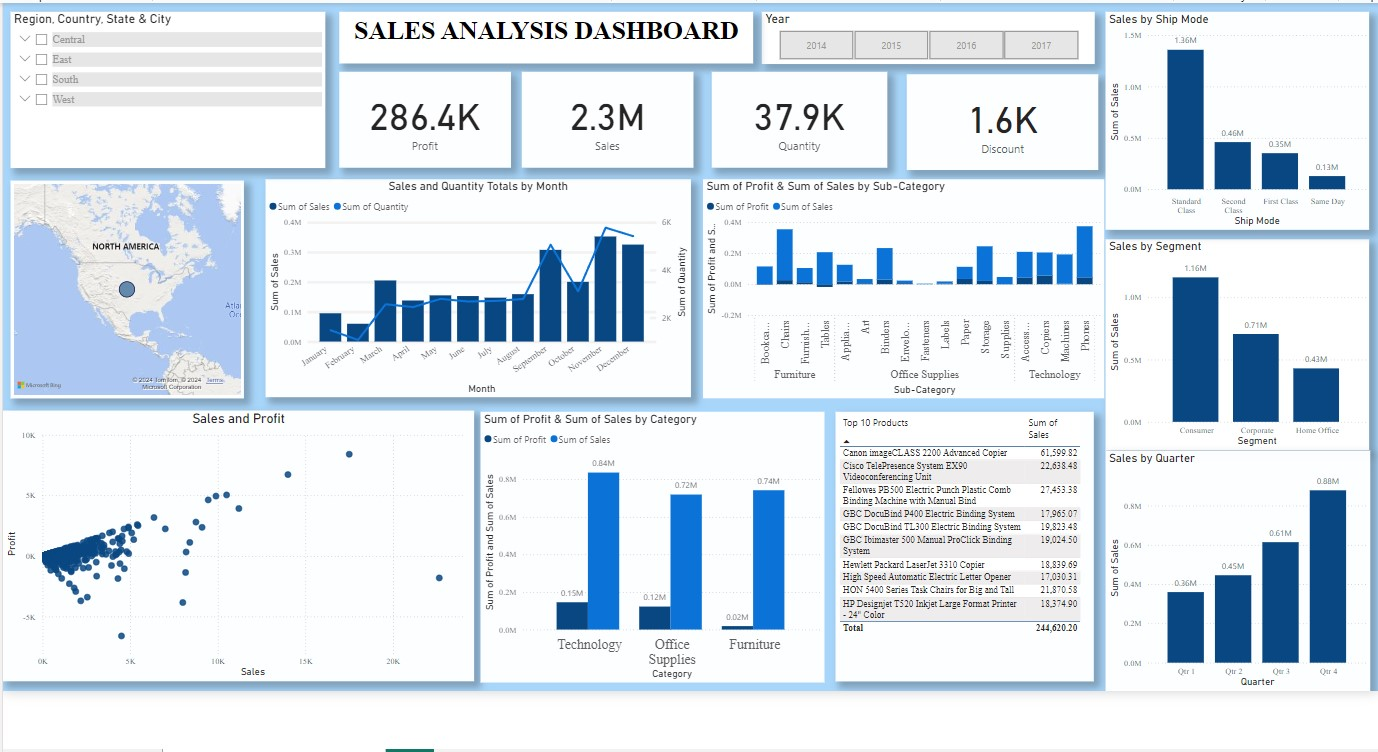

The page's visual inventory and layout, read from the dashboard file:
{"tool":"powerbi","page":{"name":"Sales Analysis Dashboard","canvas":[2000,1000],"ordinal":0},"visuals":[{"type":"scatterChart","fields":{"X":["sample_-_superstore xls - Orders.Sales"],"Y":["sample_-_superstore xls - Orders.Profit"]},"box":[0,591.7,685,393.3],"z":0},{"type":"columnChart","title":"Sales by Segment","fields":{"Category":["sample_-_superstore xls - Orders.Segment"],"Y":["Sum(sample_-_superstore xls - Orders.Sales)"]},"box":[1602.5,343.3,383.4,306.4],"z":1000},{"type":"map","title":"Sales by Country","fields":{"Category":["sample_-_superstore xls - Orders.Country"],"Size":["Sum(sample_-_superstore xls - Orders.Sales)"]},"box":[11,258.3,338.9,316.9],"z":2000},{"type":"slicer","title":"Year","fields":{"Values":["sample_-_superstore xls - Orders.Order Date.Variation.Date Hierarchy.Year"]},"box":[1103.6,12.4,483.8,75.7],"z":3000},{"type":"lineClusteredColumnComboChart","title":"Sales and Quantity Totals by Month","fields":{"Y":["Sum(sample_-_superstore xls - Orders.Sales)"],"Y2":["Sum(sample_-_superstore xls - Orders.Quantity)"],"Category":["sample_-_superstore xls - Orders.Order Date.Variation.Date Hierarchy.Month"]},"box":[381.7,256.7,618.3,316.7],"z":4000},{"type":"tableEx","fields":{"Values":["sample_-_superstore xls - Orders.Product Name","Sum(sample_-_superstore xls - Orders.Sales)"]},"box":[1210.8,593.5,375.5,392],"z":5000},{"type":"textbox","box":[488.3,13.3,601.7,75],"z":6000},{"type":"card","fields":{"Values":["Sum(sample_-_superstore xls - Orders.Profit)"]},"box":[488.8,100.1,249.3,139.4],"z":7000},{"type":"card","fields":{"Values":["Sum(sample_-_superstore xls - Orders.Sales)"]},"box":[753.8,100.1,249.3,139.4],"z":8000},{"type":"card","fields":{"Values":["Sum(sample_-_superstore xls - Orders.Discount)"]},"box":[1313.3,104,278.8,139.4],"z":9000},{"type":"card","fields":{"Values":["Sum(sample_-_superstore xls - Orders.Quantity)"]},"box":[1030.6,100.1,255.2,139.4],"z":10000},{"type":"columnChart","title":"Sales by Ship Mode","fields":{"Category":["sample_-_superstore xls - Orders.Ship Mode"],"Y":["Sum(sample_-_superstore xls - Orders.Sales)"]},"box":[1602.5,12.7,383.4,317],"z":11000},{"type":"columnChart","title":"Sales by Quarter","fields":{"Y":["Sum(sample_-_superstore xls - Orders.Sales)"],"Category":["sample_-_superstore xls - Orders.Order Date.Variation.Date Hierarchy.Quarter"]},"box":[1601.9,649.8,384.8,349.4],"z":12000},{"type":"columnChart","title":"Sum of Profit & Sum of Sales by Sub-Category","fields":{"Category":["sample_-_superstore xls - Orders.Category","sample_-_superstore xls - Orders.Sub-Category"],"Y":["Sum(sample_-_superstore xls - Orders.Profit)","Sum(sample_-_superstore xls - Orders.Sales)"]},"box":[1018.3,256.7,583.3,318.3],"z":13000},{"type":"slicer","title":"Region, Country, State & City","fields":{"Values":["sample_-_superstore xls - Orders.Region","sample_-_superstore xls - Orders.Country","sample_-_superstore xls - Orders.State","sample_-_superstore xls - Orders.City"]},"box":[11,12.8,458,227.1],"z":14000},{"type":"clusteredColumnChart","title":"Sum of Profit & Sum of Sales by Category","fields":{"Category":["sample_-_superstore xls - Orders.Category"],"Y":["Sum(sample_-_superstore xls - Orders.Profit)","Sum(sample_-_superstore xls - Orders.Sales)"]},"box":[693.3,593.3,500,393.3],"z":15000}]}

Visuals, with their boxes in screenshot pixels (x1, y1, x2, y2):
scatterChart - sample_-_superstore xls - Orders.Sales x sample_-_superstore xls - Orders.Profit: 14,406,480,673
"Sales by Segment" columnChart: 1103,237,1364,445
"Sales by Country" map: 22,179,252,394
"Year" slicer: 764,12,1093,63
"Sales and Quantity Totals by Month" lineClusteredColumnComboChart: 274,178,694,393
tableEx - sample_-_superstore xls - Orders.Product Name x Sum(sample_-_superstore xls - Orders.Sales): 837,407,1092,673
textbox: 346,13,755,64
card - Sum(sample_-_superstore xls - Orders.Profit): 346,72,516,166
card - Sum(sample_-_superstore xls - Orders.Sales): 527,72,696,166
card - Sum(sample_-_superstore xls - Orders.Discount): 907,74,1096,169
card - Sum(sample_-_superstore xls - Orders.Quantity): 715,72,888,166
"Sales by Ship Mode" columnChart: 1103,12,1364,228
"Sales by Quarter" columnChart: 1103,445,1364,683
"Sum of Profit & Sum of Sales by Sub-Category" columnChart: 706,178,1103,394
"Region, Country, State & City" slicer: 22,12,333,167
"Sum of Profit & Sum of Sales by Category" clusteredColumnChart: 485,407,825,674
